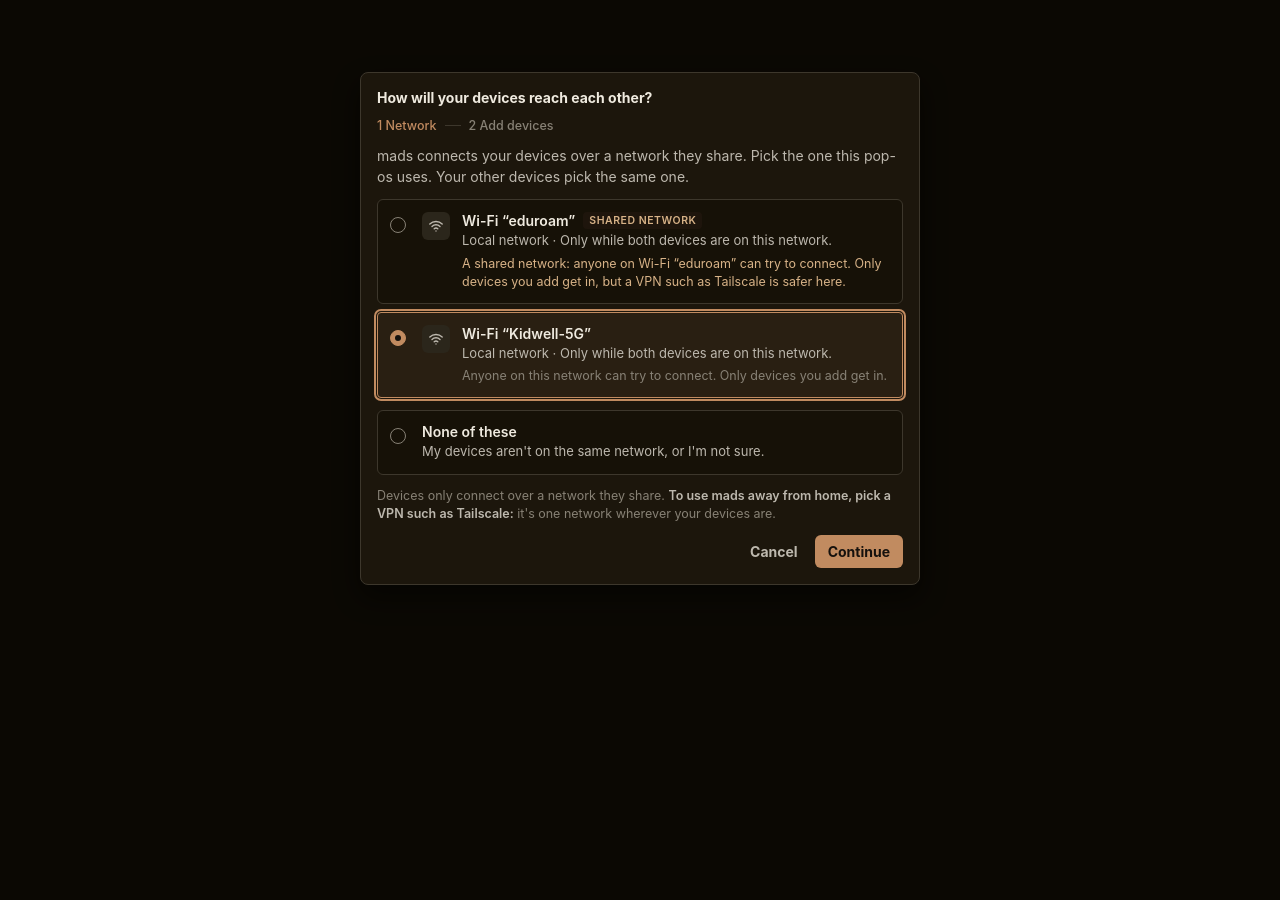
Test case: the network list (smaller items) › never preselects a shared network, and a new pick clears the last one's error
Click the button "Continue".
click(859, 552)  # box [815,535,903,568]
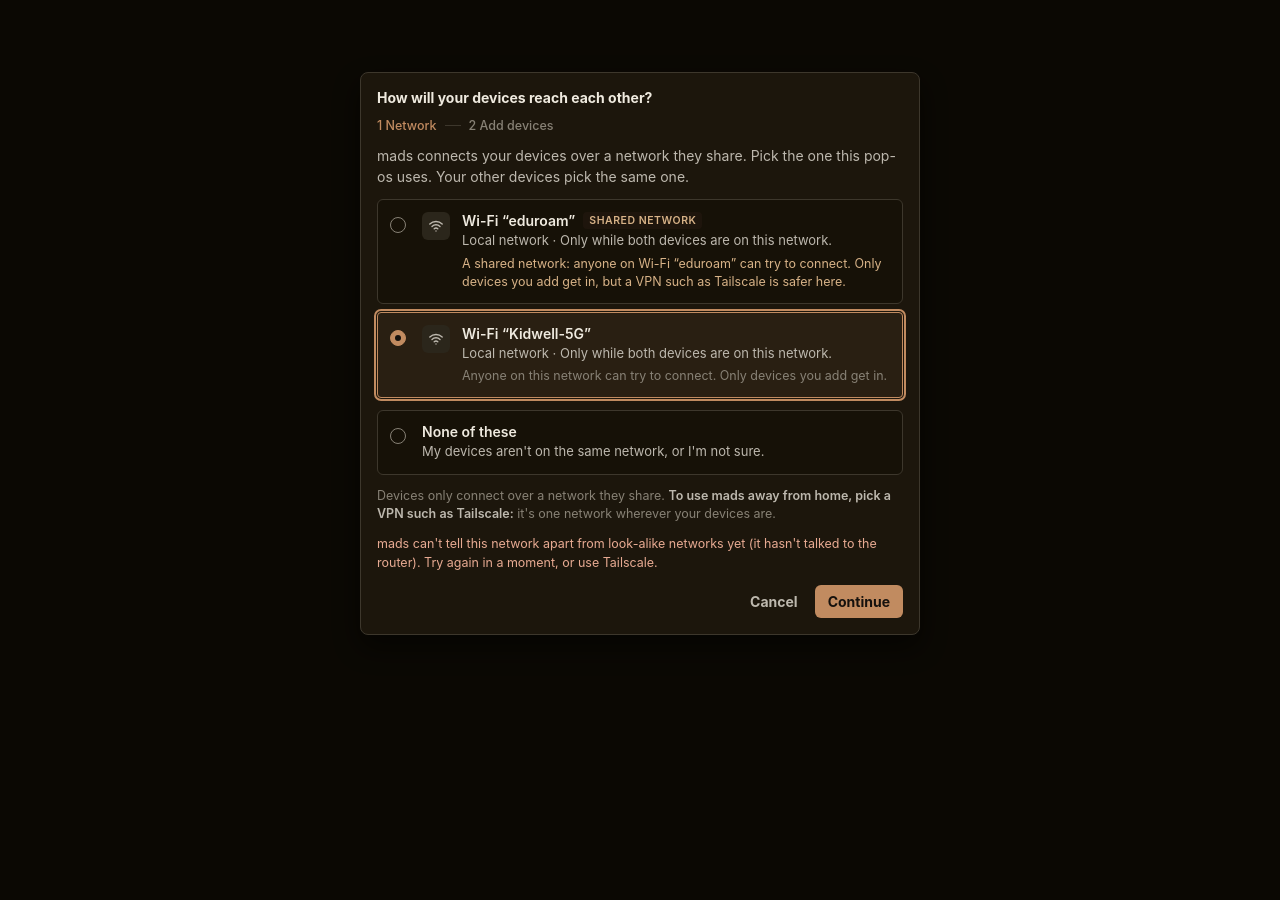
Now the message is shown, box [377,535,903,573]
Click the radio button labelled "eduroam".
click(519, 220)  # box [377,199,903,304]
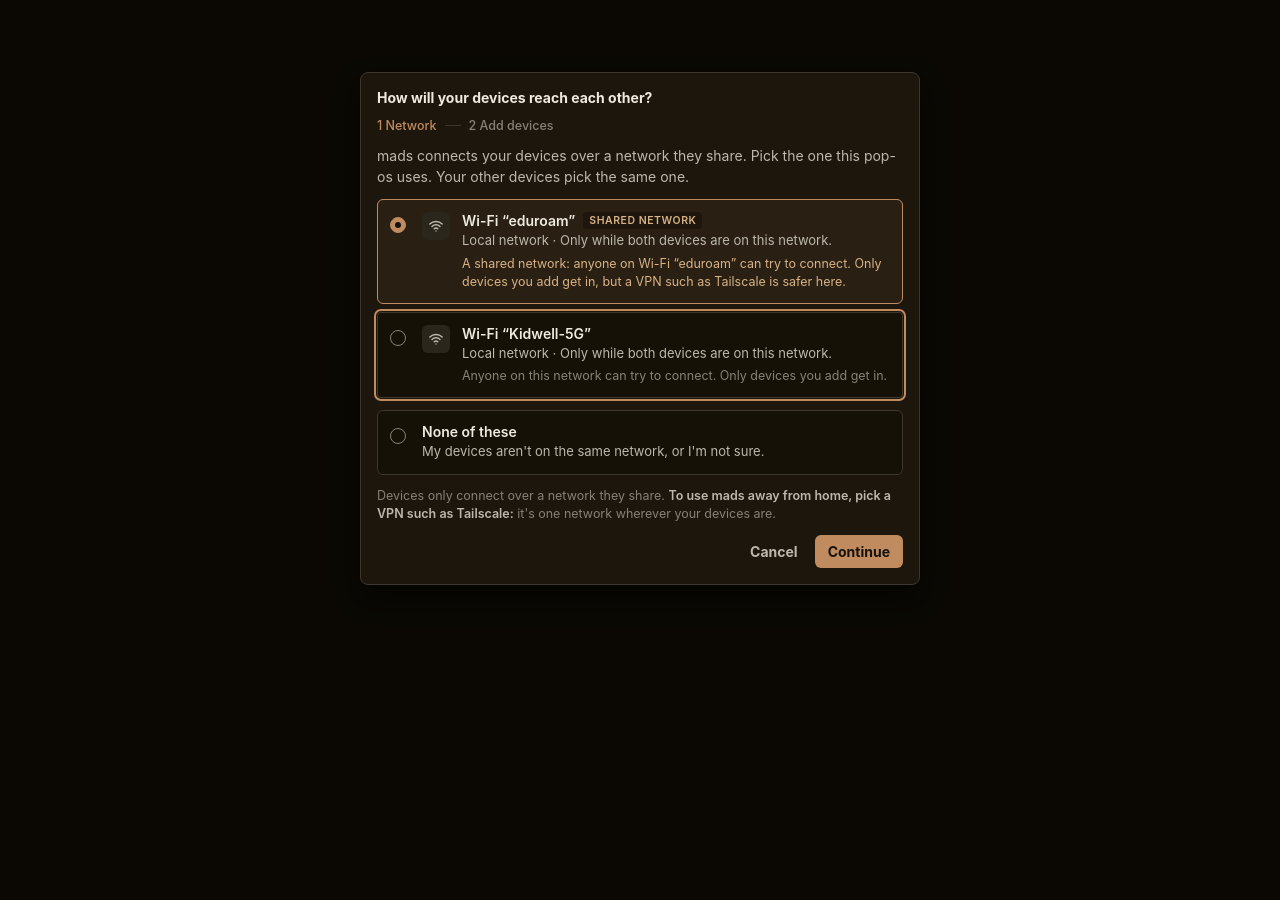
Now the message is gone
